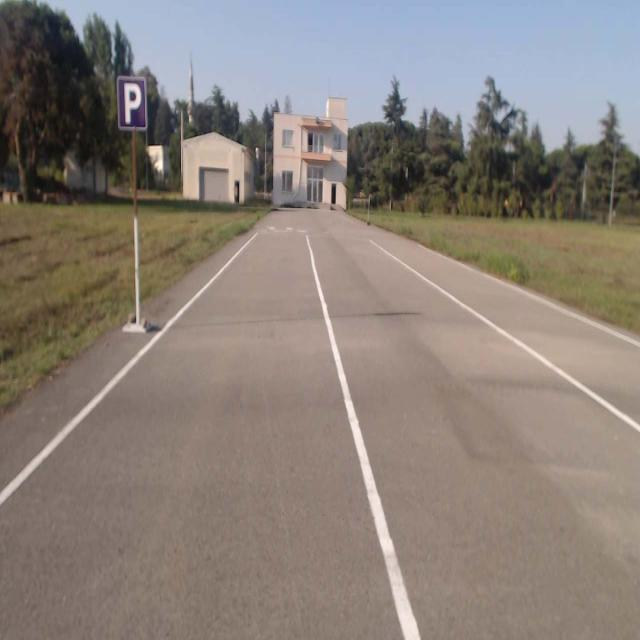park: (117, 76, 147, 130)
